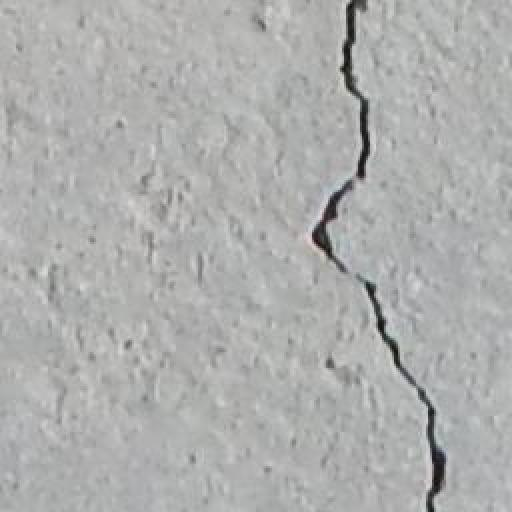spalling: (296, 9, 467, 505)
